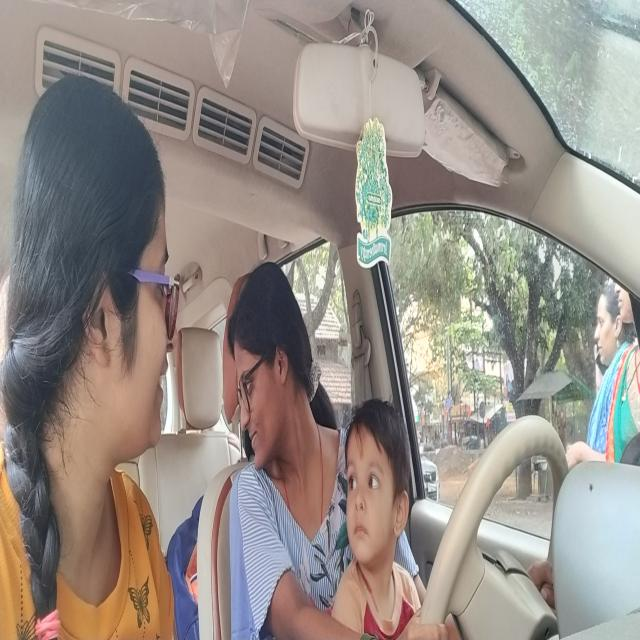LeftRight: (224, 256, 318, 482)
child: (344, 393, 412, 579)
person: (14, 65, 176, 477)
